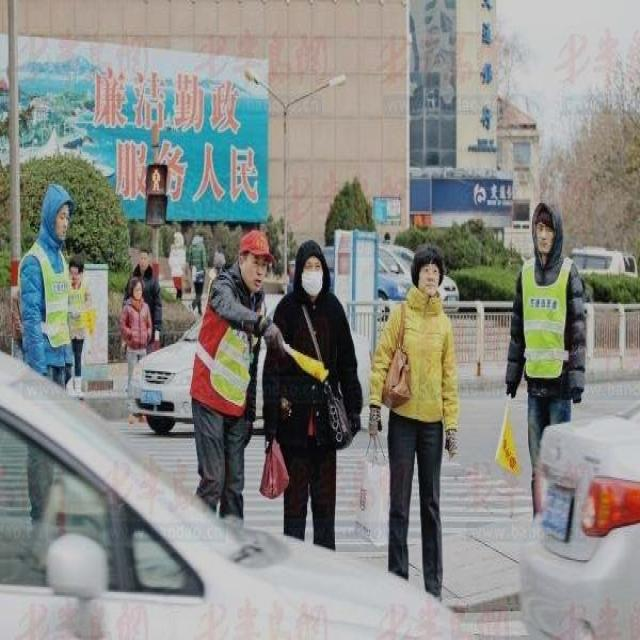non-fight: (497, 198, 590, 557), (367, 244, 458, 590), (260, 240, 356, 552)
